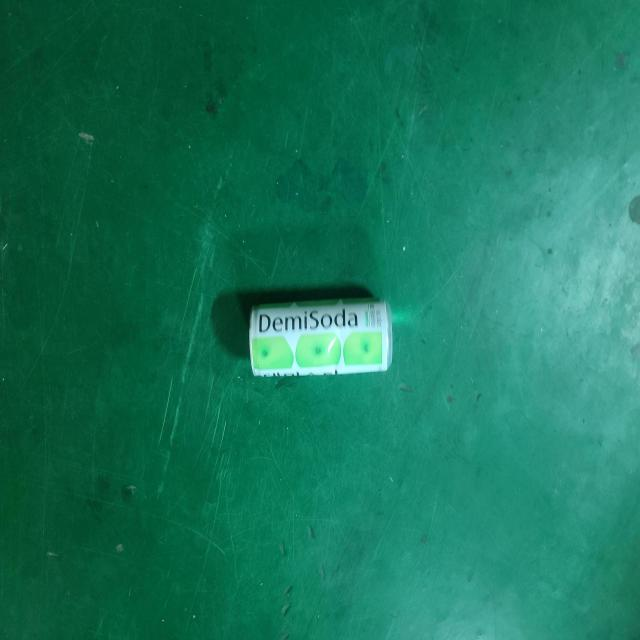can: (249, 297, 393, 377)
